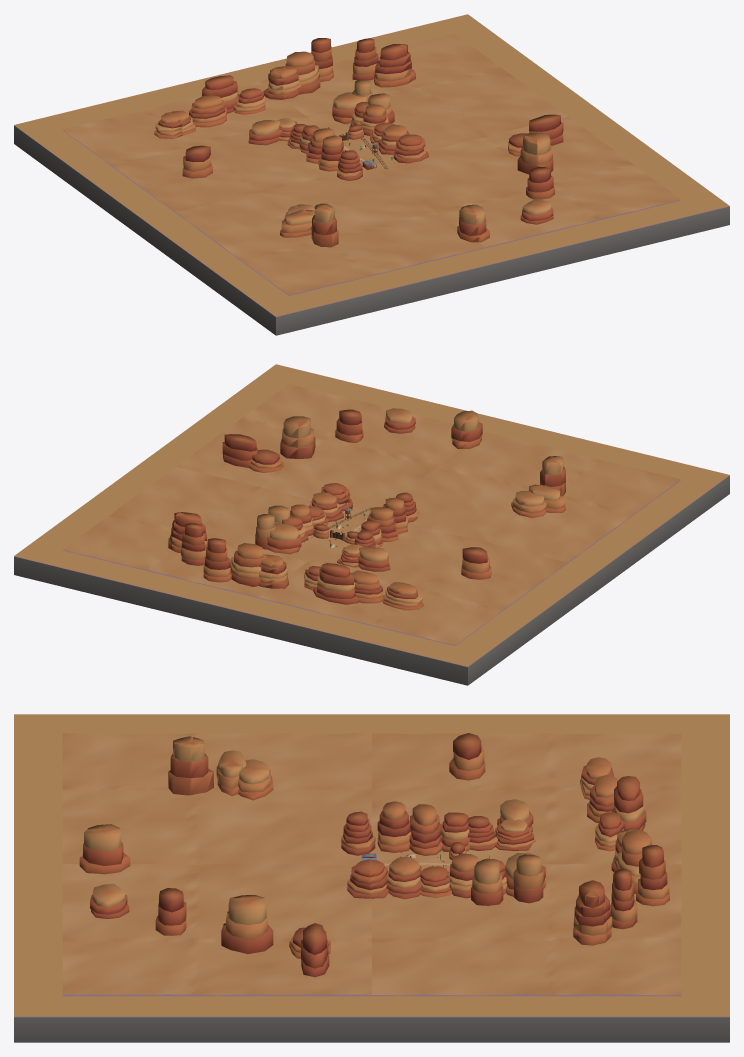
3 views of the same model, one above another, from view 1: azimuth 30°, elevation 25°; view 2: azimuth 150°, elevation 25°; view 3: azimuth 270°, elevation 25° (orthographic). The views are drawn at different scales.
Visible parts, largest first — view 1: near-placeholder; view 2: near-placeholder; view 3: near-placeholder.
Boxes of the visible parts, bbox=[...] form: near-placeholder: bbox=[14, 14, 729, 335]; near-placeholder: bbox=[14, 364, 729, 685]; near-placeholder: bbox=[14, 714, 729, 1042].
Size of the model in its own units: 500 by 58.2 by 500.
